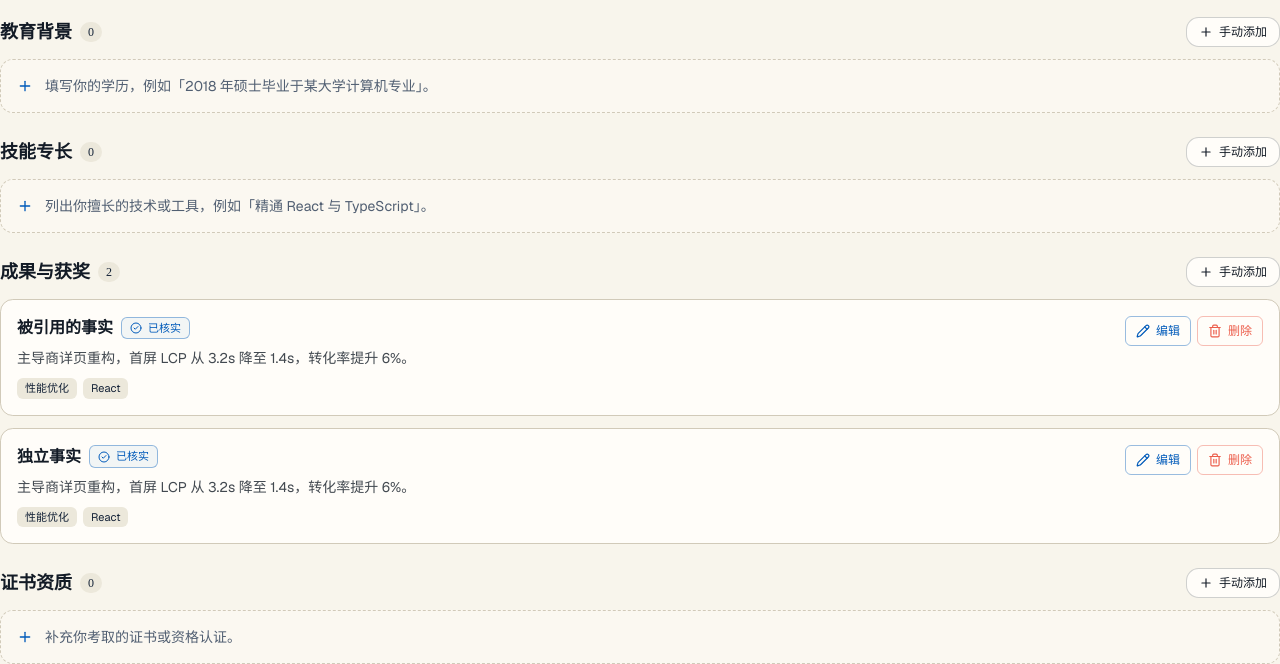
it: Profile 事实删除入口 › 确认后 DELETE 该事实并从页面移除，其它事实保留
This screenshot has width=1280, height=664.
(page scrolled)
Click the button with aria-label "删除「被引用的事实」" at (1230, 331), box [1197,316,1263,346]
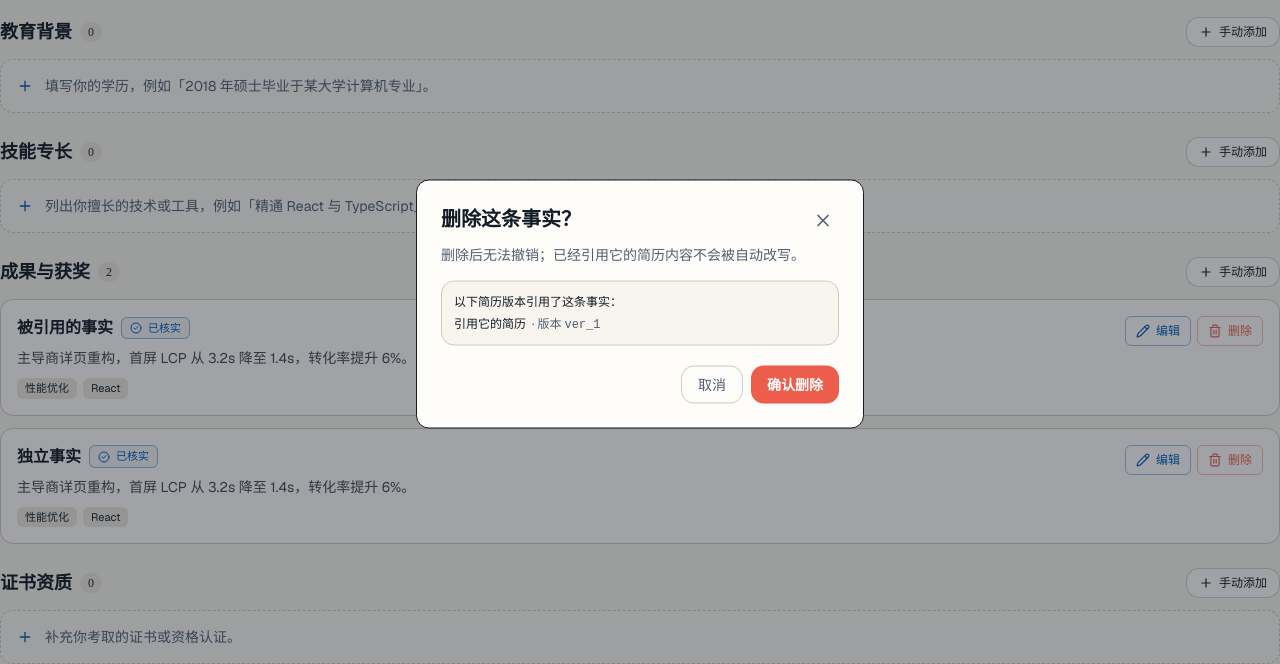
Click the button "确认删除" at (795, 384), box [751,366,839,404]
(page scrolled)
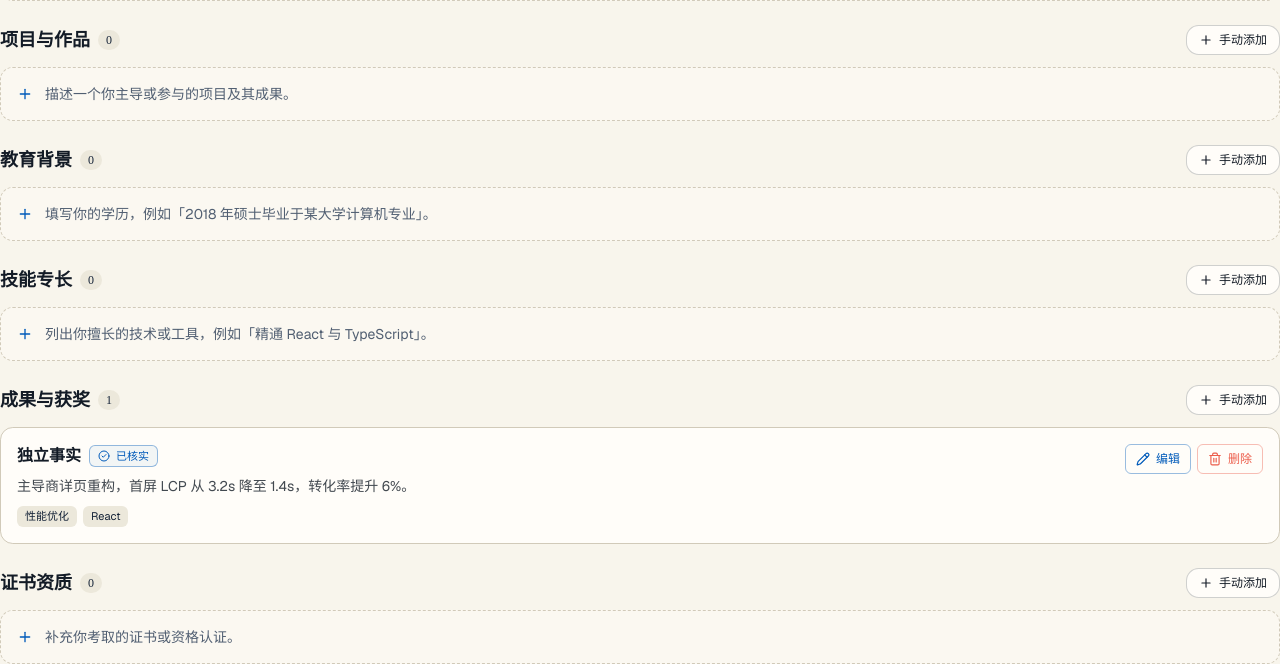
Expected: the heading "独立事实" is shown, [17,444,81,468]
Expected: the heading "被引用的事实" is gone
